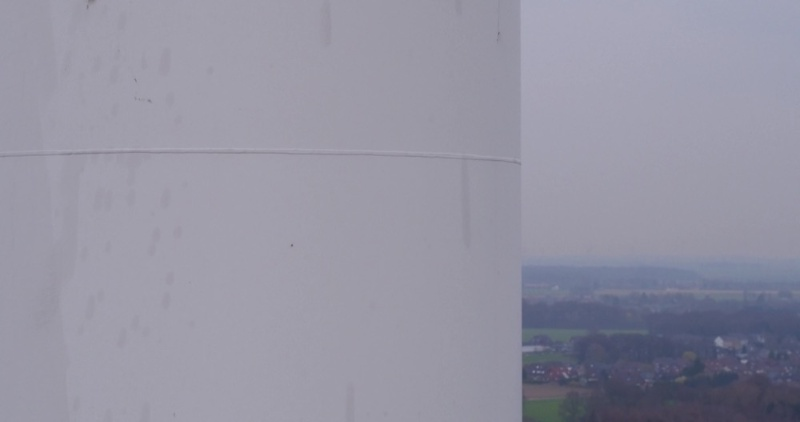weldseam: (1, 143, 523, 176)
